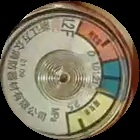green: (98, 61, 122, 99)
needle: (88, 85, 118, 98)
red: (76, 20, 121, 63)
yellow: (68, 90, 115, 135)
